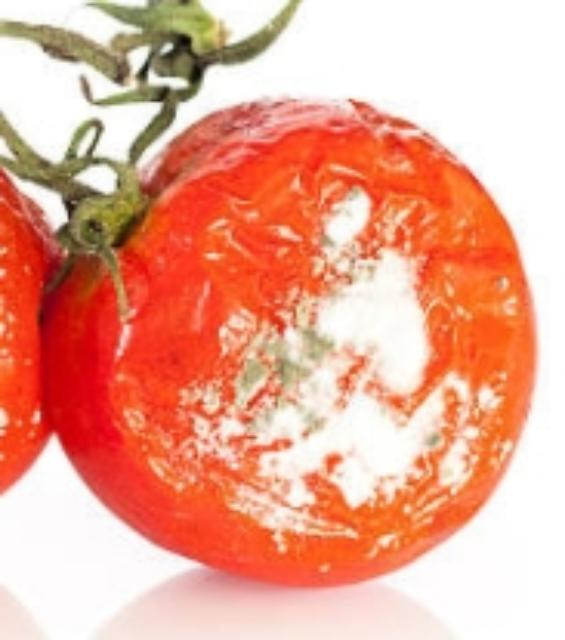defect: (45, 98, 543, 591)
